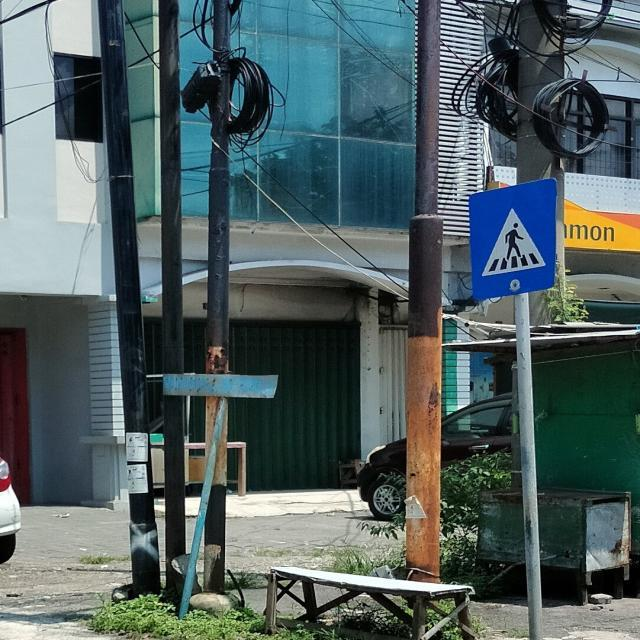Perintah Jalur Penyebrangan: (466, 177, 560, 299)
